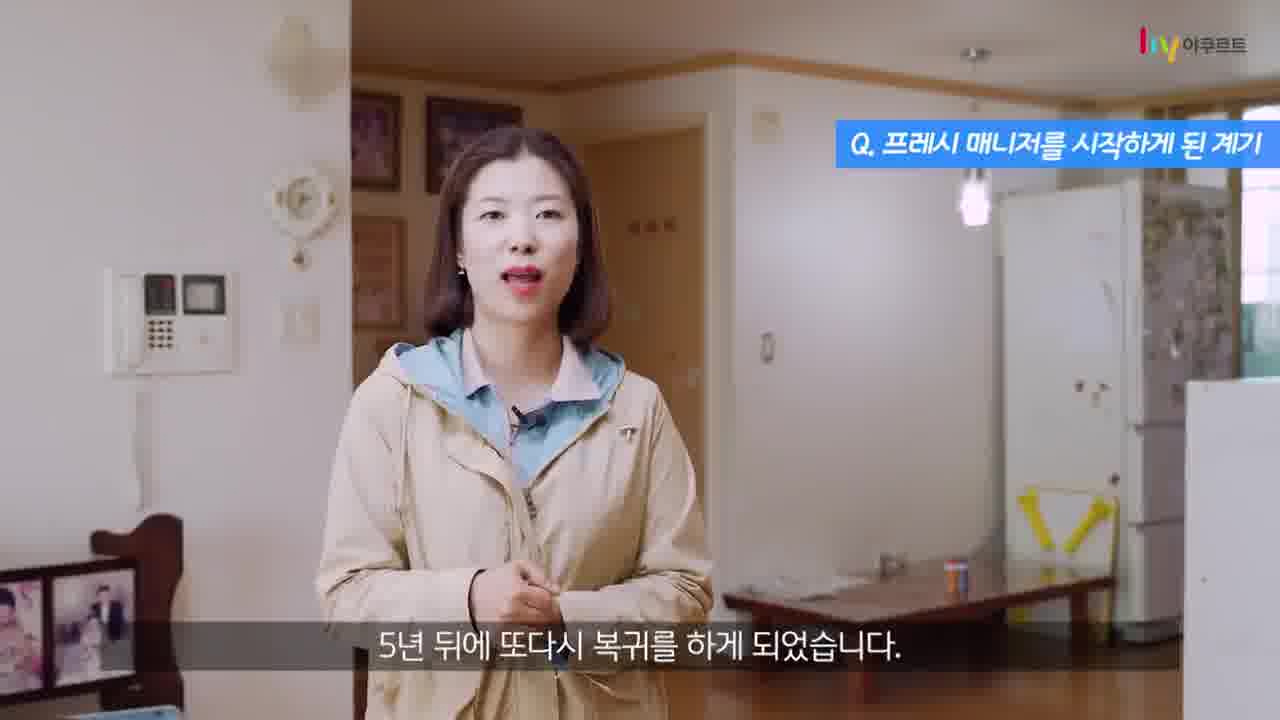Yakurut: (283, 106, 757, 720)
